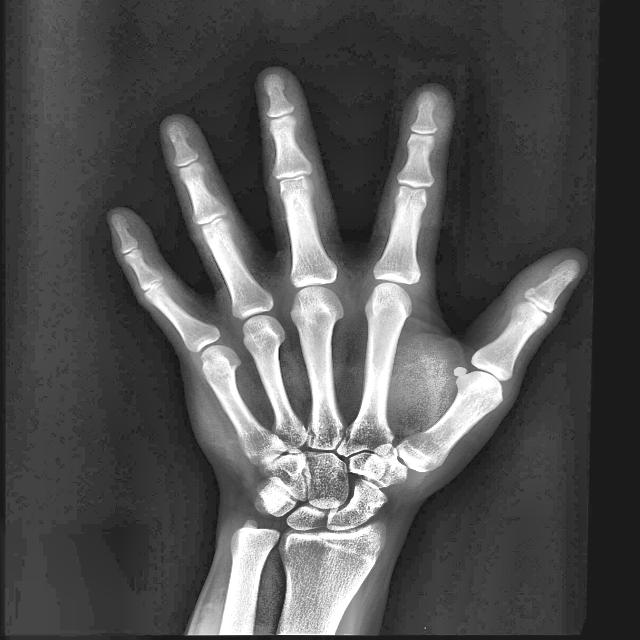fracture: (308, 429, 318, 448), (342, 430, 353, 442)
